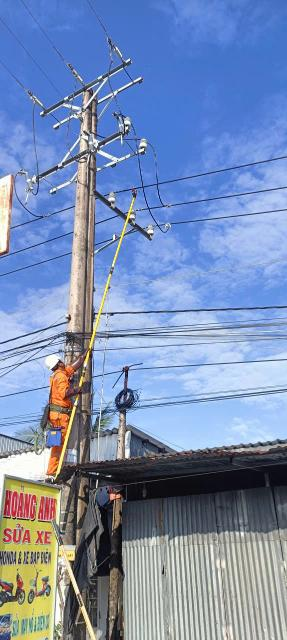gloves: (64, 340, 98, 373), (54, 385, 97, 398)
harness: (25, 398, 80, 418)
helmet: (43, 351, 67, 370)
shoes: (37, 472, 63, 491)
